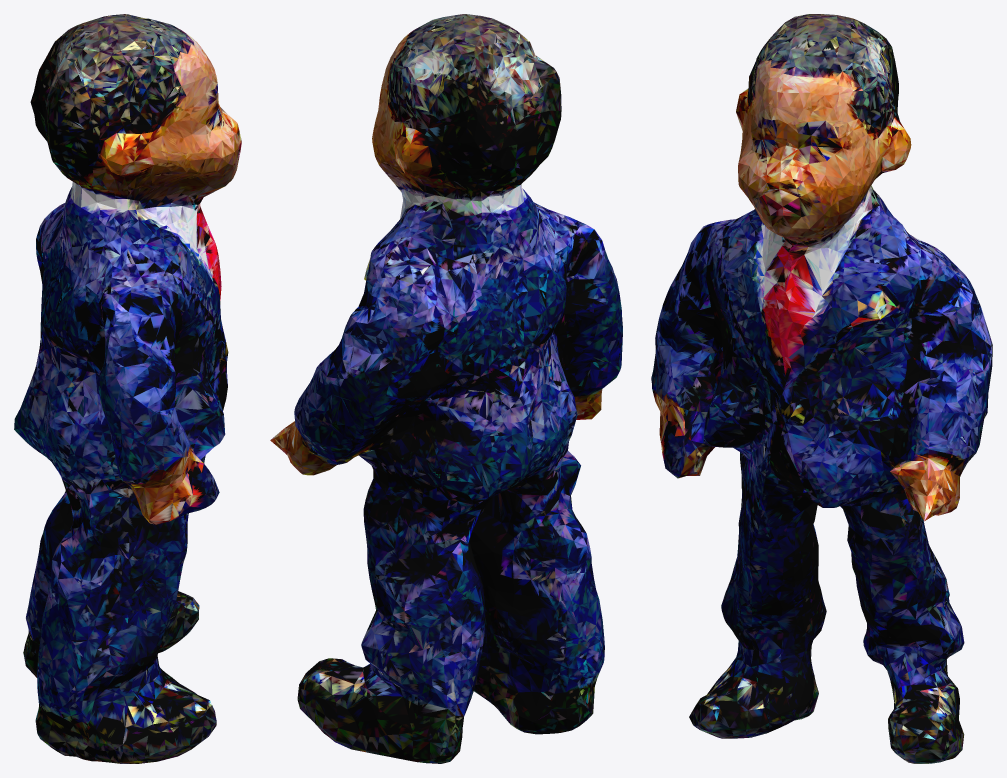
Rendered from doll-depth.glb.
3 views of the same model, side by side, from view 1: azimuth 30°, elevation 25°; view 2: azimuth 150°, elevation 25°; view 3: azimuth 270°, elevation 25° (orthographic). The views are drawn at different scales.
Visible parts, largest first — view 1: extracted_mesh; view 2: extracted_mesh; view 3: extracted_mesh.
Part boxes in pixels (bbox=[...]): extracted_mesh: bbox=[14, 14, 241, 763]; extracted_mesh: bbox=[270, 14, 622, 763]; extracted_mesh: bbox=[651, 14, 992, 763].
Bounding box in the file's own units: 0.4035 × 1.07 × 0.4621.
Materials: 1 (1 with a texture image).
